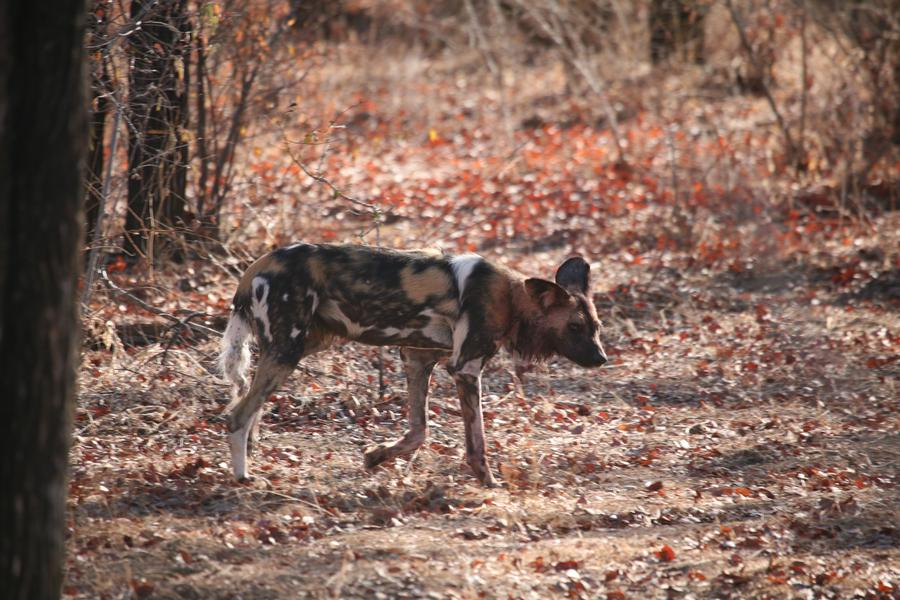wilddog: (193, 236, 640, 470)
